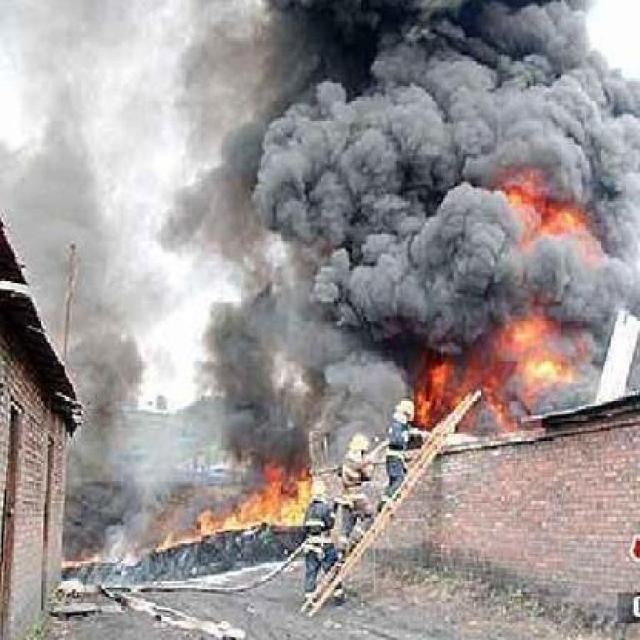Fire: (68, 468, 323, 558), (412, 318, 569, 446)
Smoke: (193, 14, 640, 310), (21, 8, 218, 464), (220, 314, 408, 463)
